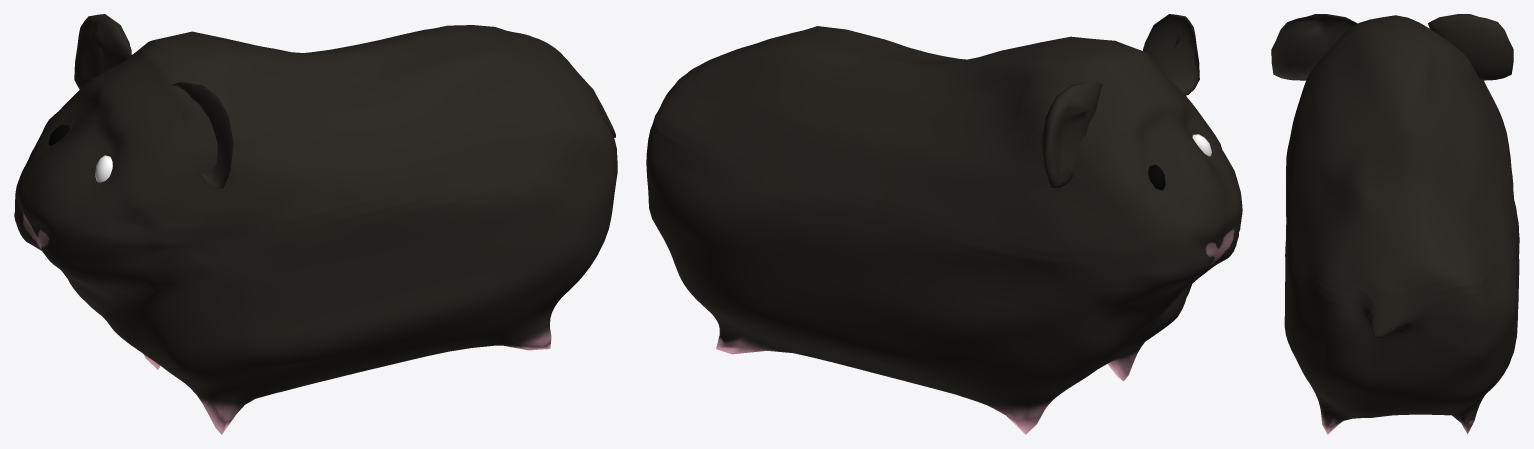
Rendered from guinea.glb.
3 renders of one model, left to right at view 1: azimuth 30°, elevation 25°; view 2: azimuth 150°, elevation 25°; view 3: azimuth 270°, elevation 25°, orthographic. The views are drawn at different scales.
Visible parts, largest first — view 1: body, ear, eye; view 2: body, ear, eye; view 3: body, ear.
Boxes of the visible parts, box(x1,y1,x2,y2) form: body: box(14, 25, 617, 434); ear: box(74, 14, 233, 188); eye: box(48, 125, 112, 182); body: box(646, 26, 1242, 434); ear: box(1041, 14, 1199, 188); eye: box(1148, 134, 1211, 190); body: box(1284, 15, 1519, 434); ear: box(1271, 14, 1513, 80).
Bounding box in the file's own units: 4.32 × 2.65 × 2.05.
Materials: 4 (3 with a texture image).
